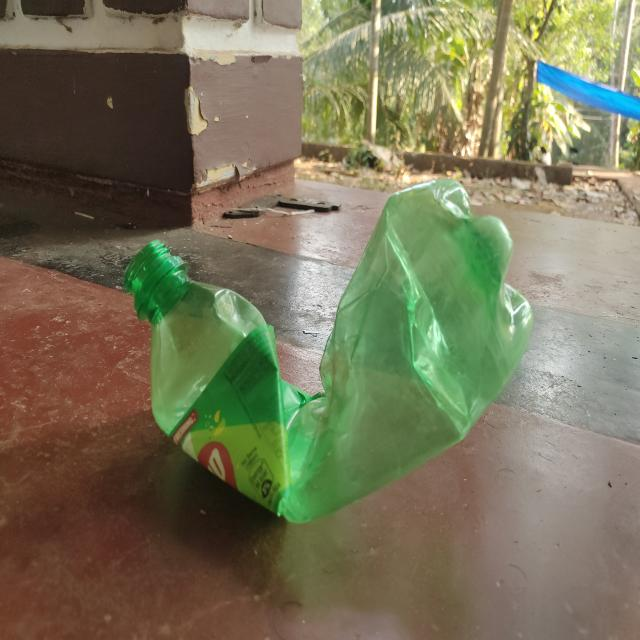plastic: (119, 174, 536, 524)
